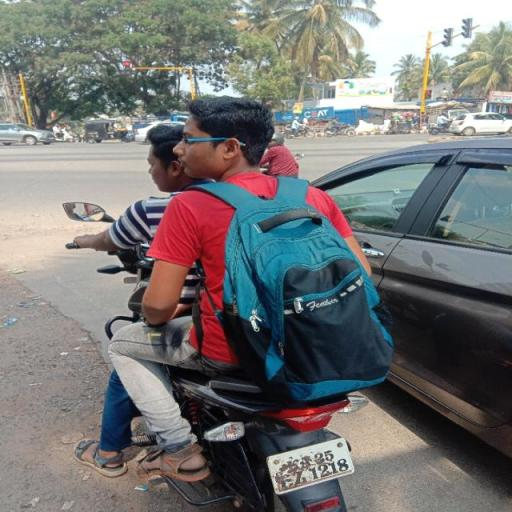bike: (62, 92, 404, 512)
numberplate: (262, 436, 352, 494)
withouthelmet: (182, 95, 272, 168), (148, 125, 190, 190)
